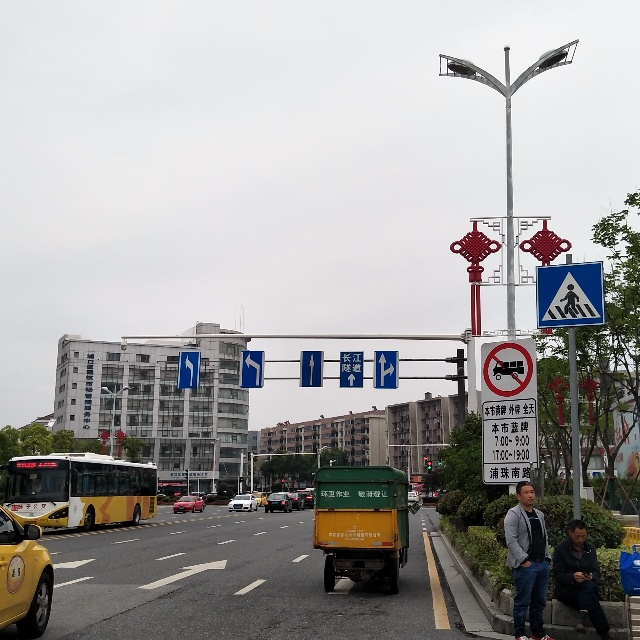crosswalk: (536, 259, 612, 335)
left: (239, 347, 270, 391), (175, 348, 204, 393)
straight: (297, 348, 323, 392)
